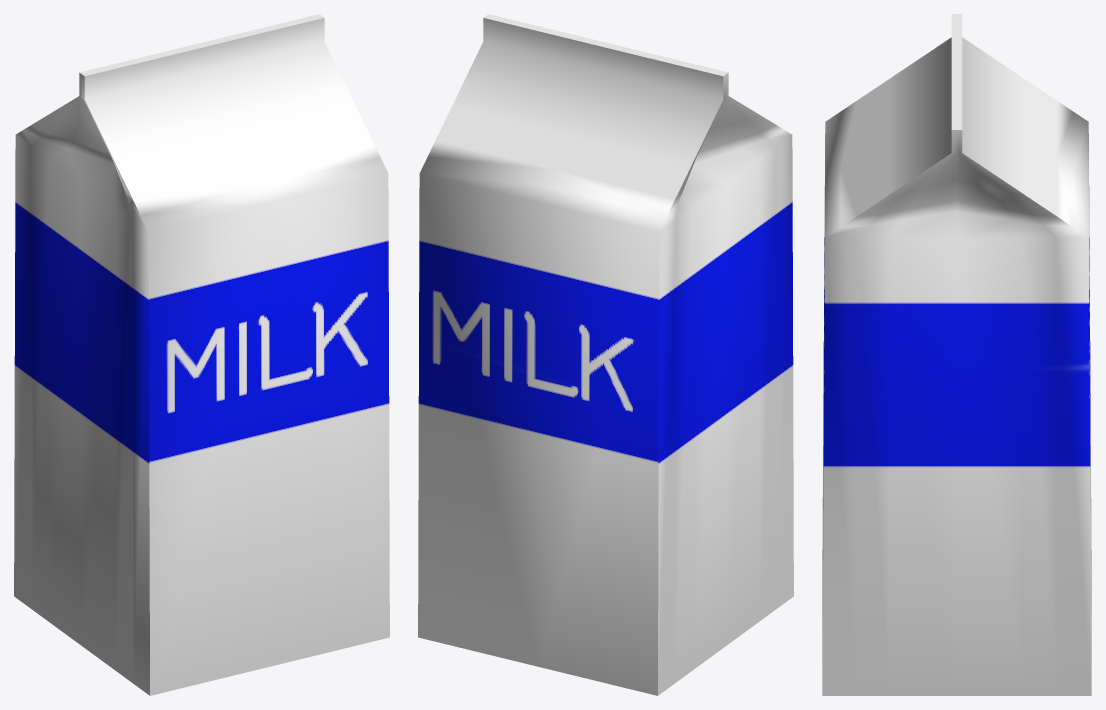
File: milk.fbx
3 views of the same model, side by side, from view 1: azimuth 30°, elevation 25°; view 2: azimuth 150°, elevation 25°; view 3: azimuth 270°, elevation 25° (orthographic).
Parts seen in each view (by area): view 1: Cube; view 2: Cube; view 3: Cube.
Boxes of the visible parts, bbox=[...] form: Cube: bbox=[14, 14, 389, 695]; Cube: bbox=[418, 14, 793, 695]; Cube: bbox=[822, 14, 1091, 695].
Size of the model in its own units: 204 by 464 by 200.
